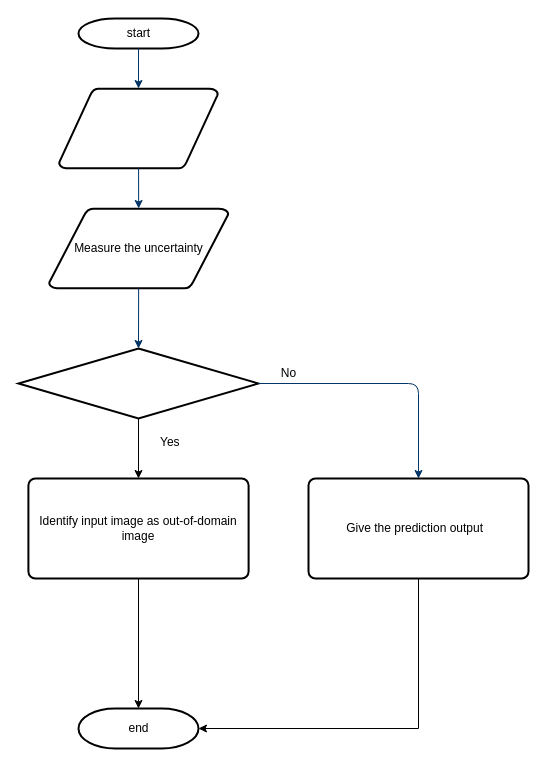
Image size: 546x766. Some labels were removed from this diagram. The box of each missing label's shape, as (x1, y1, x2, y2) in pixels:
Feed an input image: (58, 87, 218, 169)
Uncertainty>threshold: (17, 347, 259, 419)
